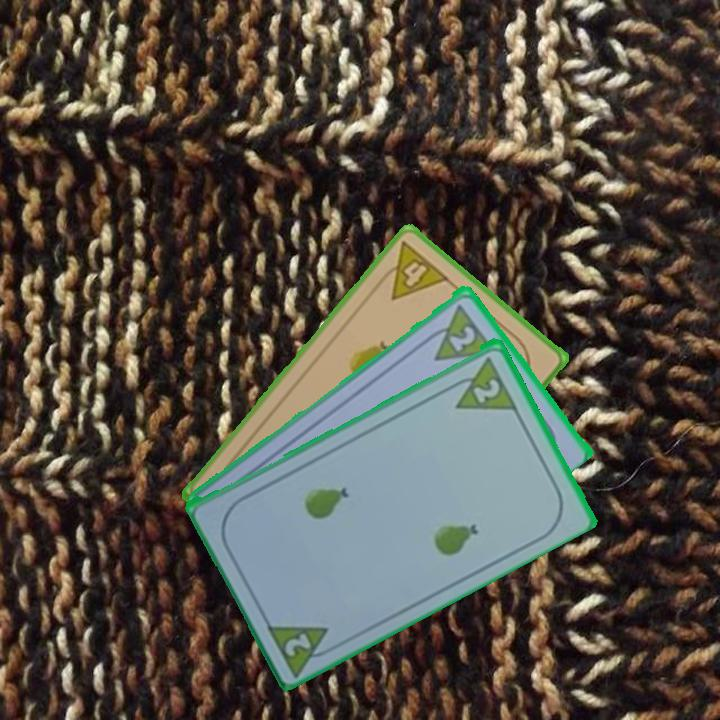2p: (445, 321, 479, 354), (469, 374, 504, 406), (281, 628, 315, 659)
4p: (372, 237, 452, 303)
